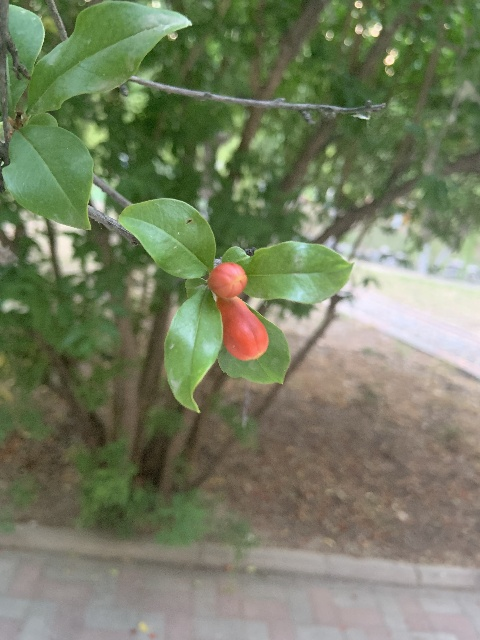bud: (215, 295, 268, 361), (207, 262, 246, 298)
